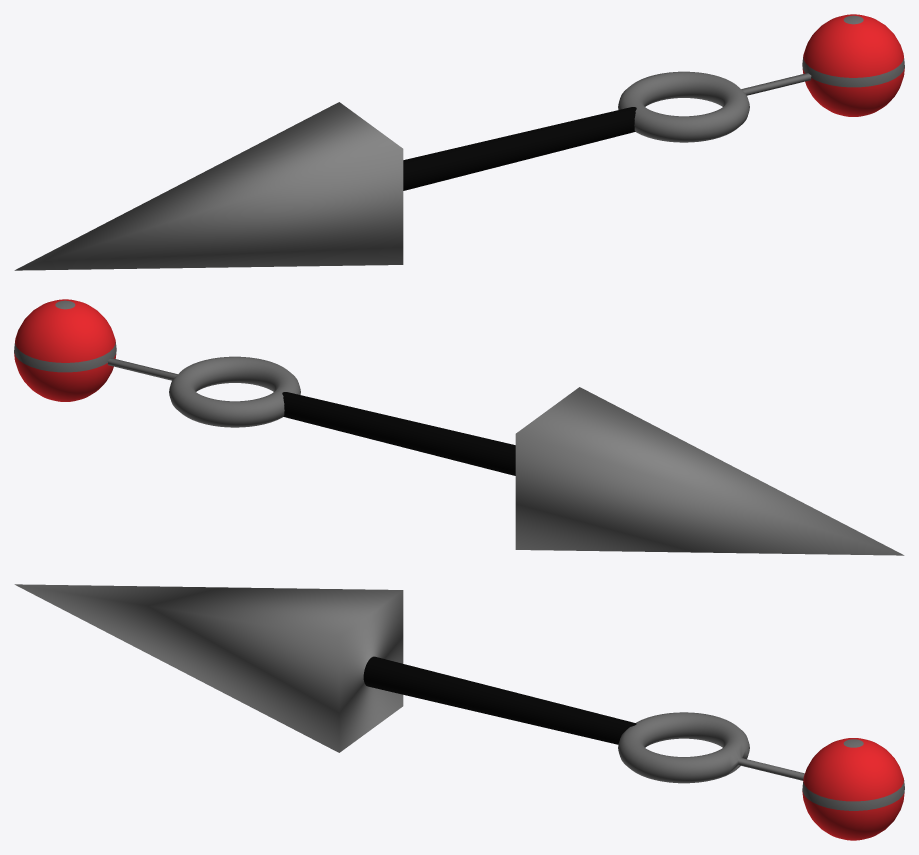
Rendered from KunaiModel.fbx.
The picture shows the model from 3 angles, top to bottom: view 1: azimuth 30°, elevation 25°; view 2: azimuth 150°, elevation 25°; view 3: azimuth 330°, elevation 25°; orthographic projection.
Parts seen in each view (by area): view 1: Cube; view 2: Cube; view 3: Cube.
Part boxes in pixels (left/top/right/bottom): Cube: left=14, top=14, right=904, bottom=270; Cube: left=14, top=299, right=904, bottom=555; Cube: left=14, top=584, right=904, bottom=840.
Size of the model in its own units: 2422 by 304 by 313.
Materials: 1 (1 with a texture image).
